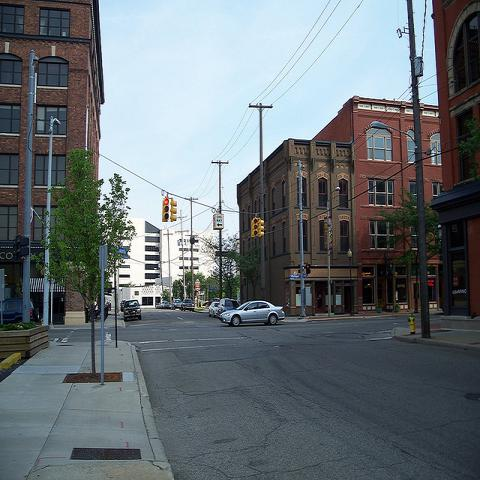car: (220, 301, 285, 326), (0, 298, 40, 324), (124, 299, 141, 322), (218, 298, 238, 316), (208, 302, 220, 318), (180, 299, 194, 312), (172, 299, 182, 310), (161, 300, 172, 308), (120, 301, 126, 312), (156, 304, 161, 309)
